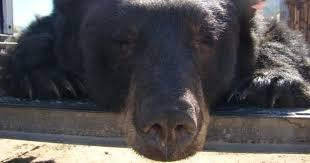bear: (4, 0, 310, 162)
